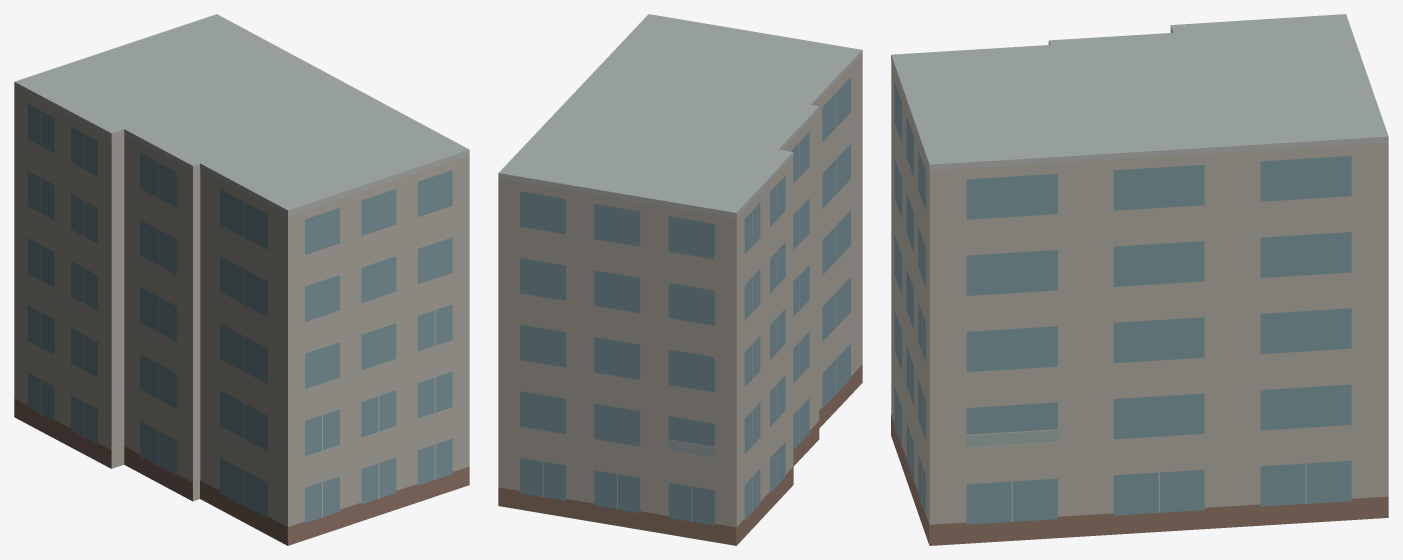
Rendered from survey-upis-32576143.glb.
3 renders of one model, left to right at view 1: azimuth 30°, elevation 25°; view 2: azimuth 150°, elevation 25°; view 3: azimuth 270°, elevation 25°, orthographic. The views are drawn at different scales.
Parts seen in each view (by area): view 1: survey-upis-32576143.tmp; view 2: survey-upis-32576143.tmp; view 3: survey-upis-32576143.tmp.
Part boxes in pixels (<box>): survey-upis-32576143.tmp: <box>14,14,469,545</box>; survey-upis-32576143.tmp: <box>498,14,862,545</box>; survey-upis-32576143.tmp: <box>891,14,1388,545</box>.
Bounding box in the file's own units: 13.49 × 15.9 × 18.82.
